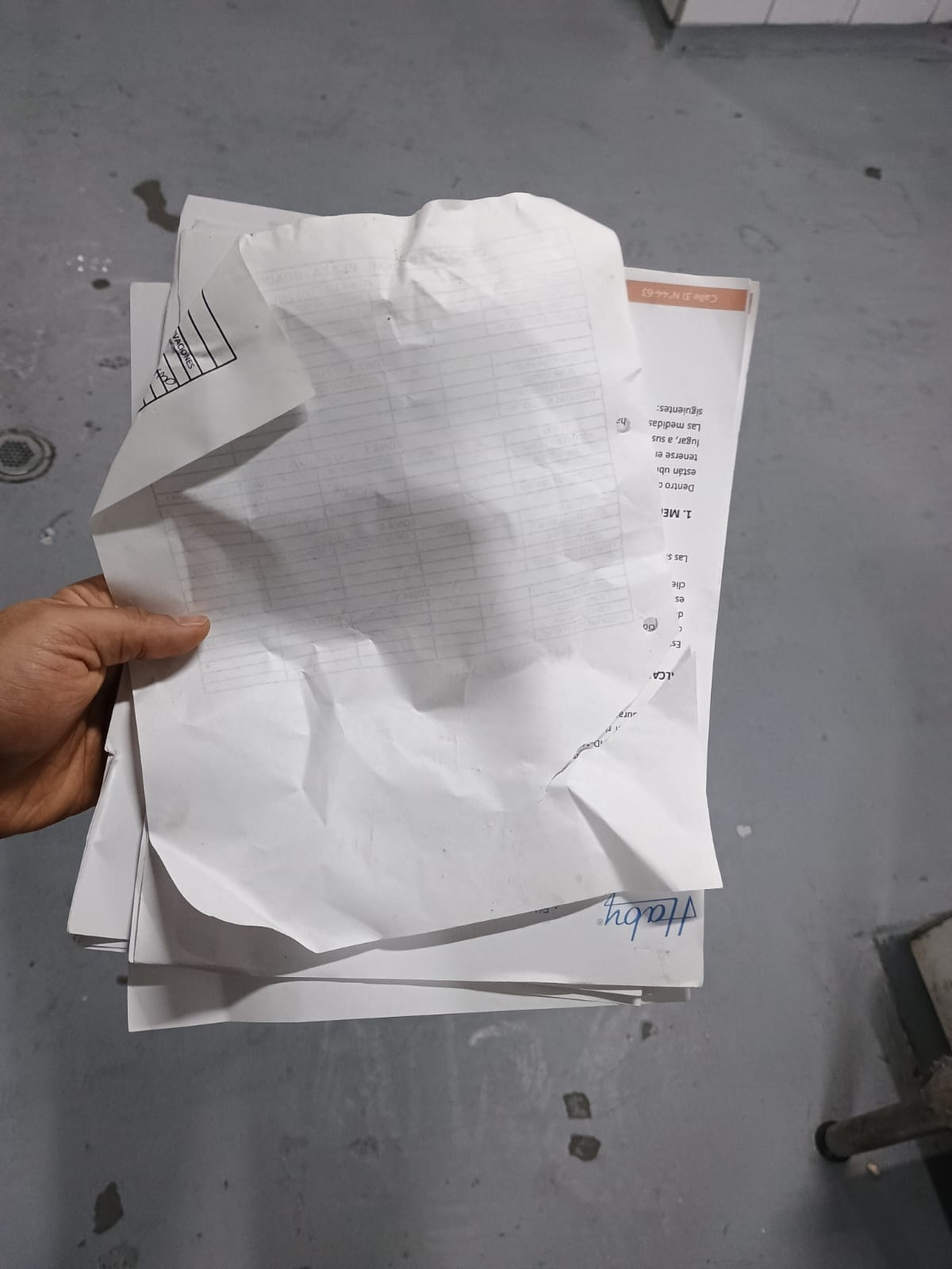Papel: (66, 193, 765, 1037)
